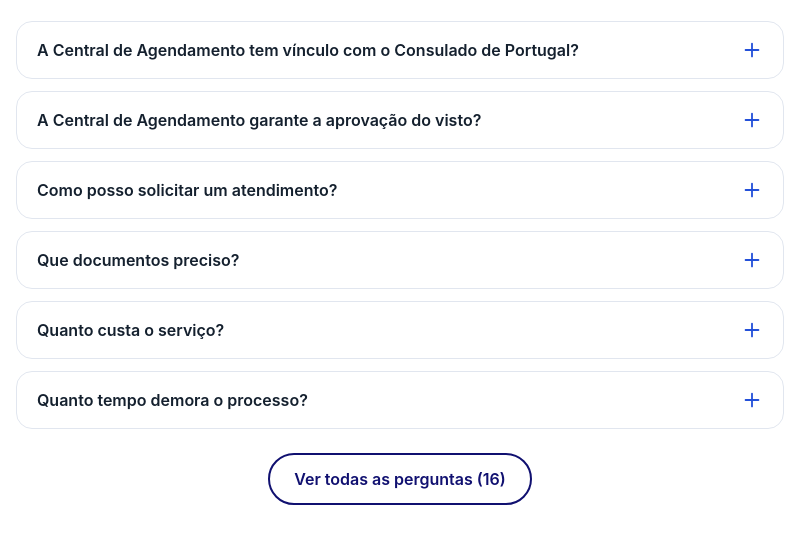
Test: Faq › acordeão alterna aria-expanded
Click the 1st button.
click(400, 50)  # box x1=37 y1=22 x2=763 y2=78
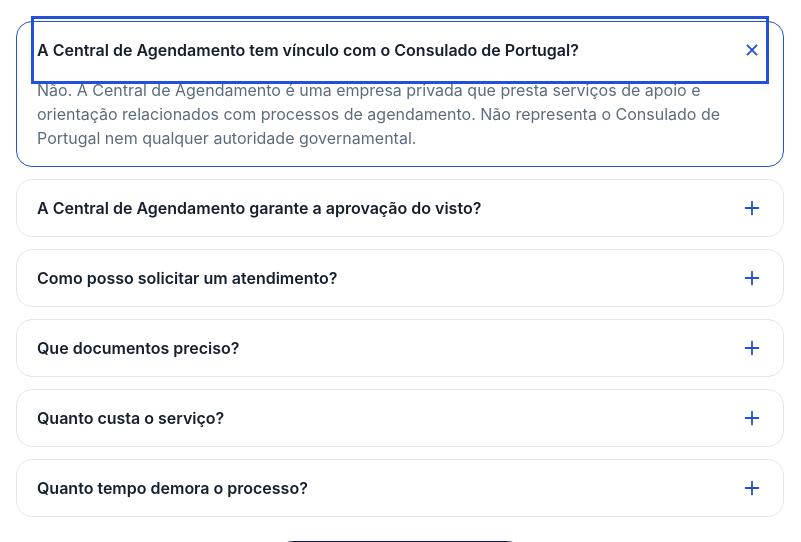
Now the 1st button is expanded, box x1=37 y1=22 x2=763 y2=78
